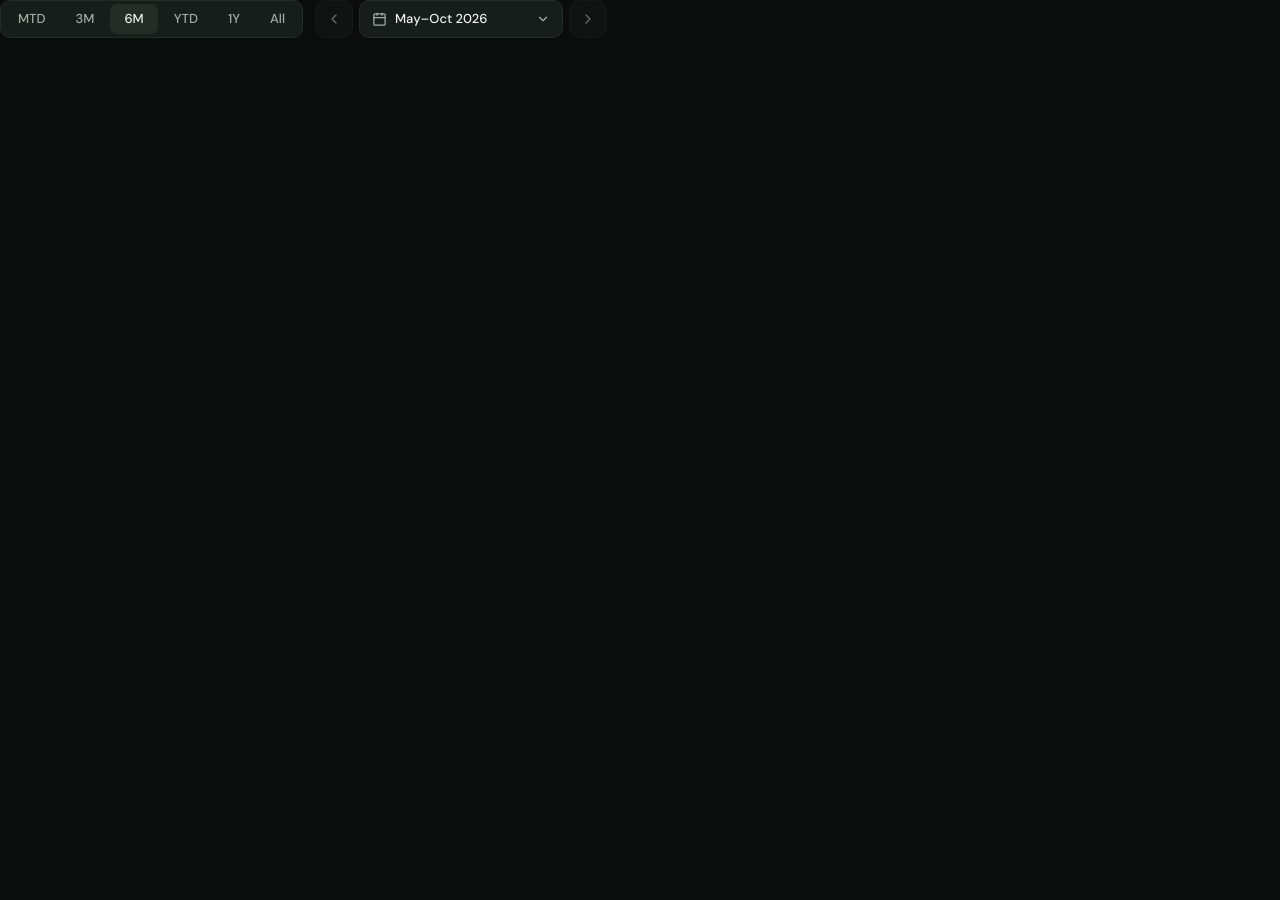
Test: PeriodBar › selects a month from the keyboard and closes
This screenshot has width=1280, height=900.
Click the button with test id "period-button". click: x=461, y=19
box: [359,0,563,38]
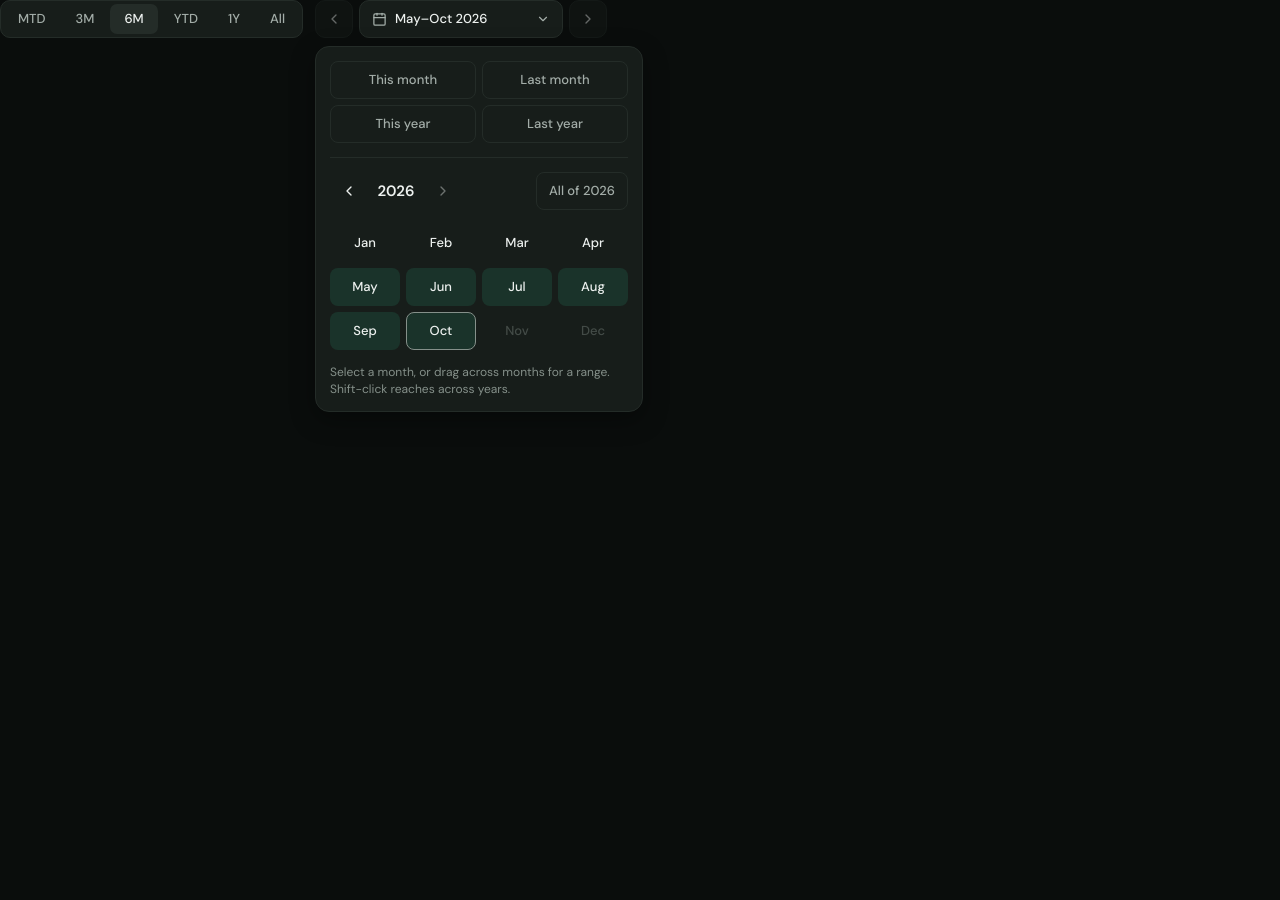
Click the button with aria-label "March 2026". click: x=517, y=243
box: [482,224,552,262]
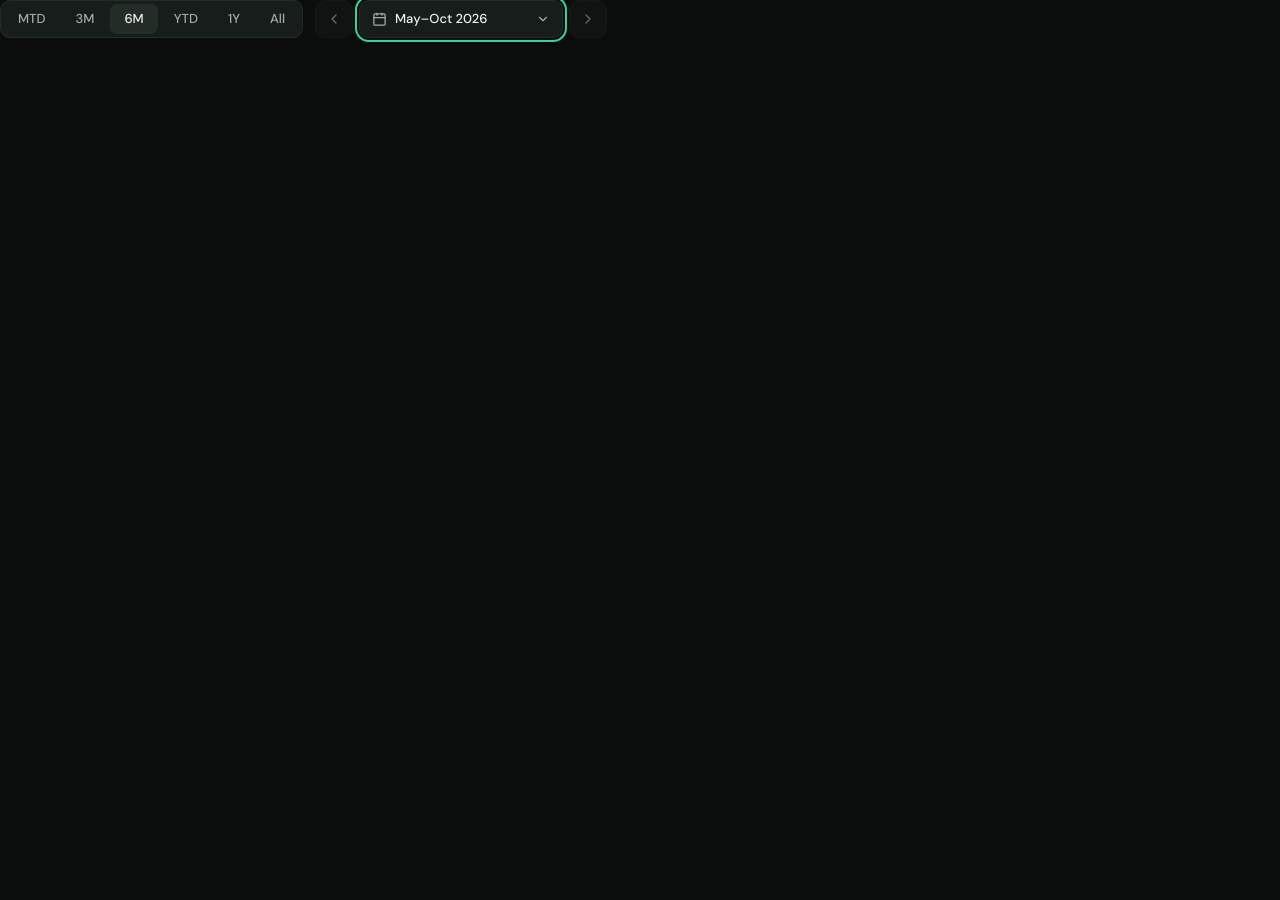
Check: the dialog is gone
